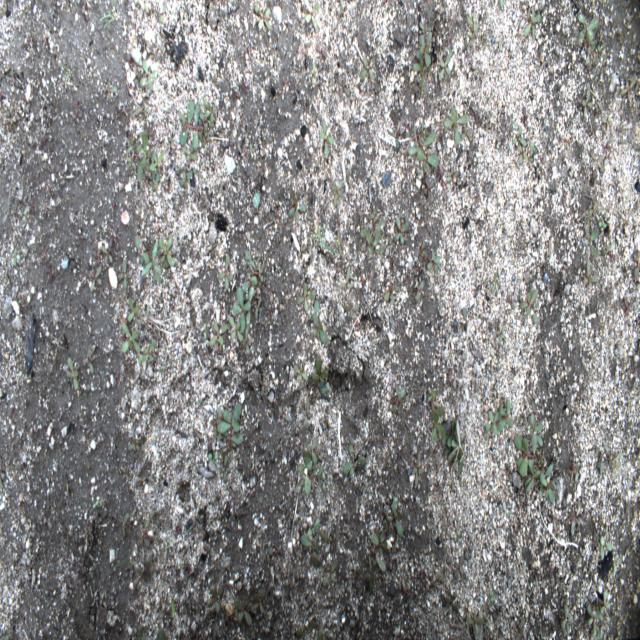weed: (398, 121, 438, 172), (132, 130, 164, 188), (179, 102, 213, 151), (218, 404, 242, 465), (233, 286, 262, 334), (134, 238, 162, 286), (514, 435, 545, 477), (443, 420, 464, 477), (428, 388, 446, 446), (577, 14, 599, 58), (444, 108, 469, 144), (243, 249, 263, 293), (308, 357, 330, 396), (342, 443, 366, 476), (416, 20, 432, 67), (312, 300, 328, 344), (520, 287, 538, 325), (319, 117, 334, 159), (120, 321, 140, 352), (529, 412, 543, 455), (296, 282, 316, 312), (539, 464, 554, 504), (217, 254, 233, 290), (304, 438, 322, 470), (139, 60, 158, 90), (159, 234, 175, 268), (524, 7, 541, 39), (586, 601, 601, 637), (584, 219, 598, 256), (303, 1, 319, 32), (234, 597, 252, 624), (498, 399, 513, 431), (255, 3, 272, 31), (209, 321, 228, 346), (208, 586, 224, 614), (484, 410, 501, 436), (296, 464, 310, 494), (138, 339, 156, 362), (571, 498, 582, 535), (394, 217, 408, 245), (66, 358, 78, 390), (288, 201, 308, 220), (361, 55, 375, 82), (126, 297, 140, 323), (229, 316, 243, 342), (118, 260, 130, 289), (439, 53, 451, 80), (253, 592, 265, 614)
